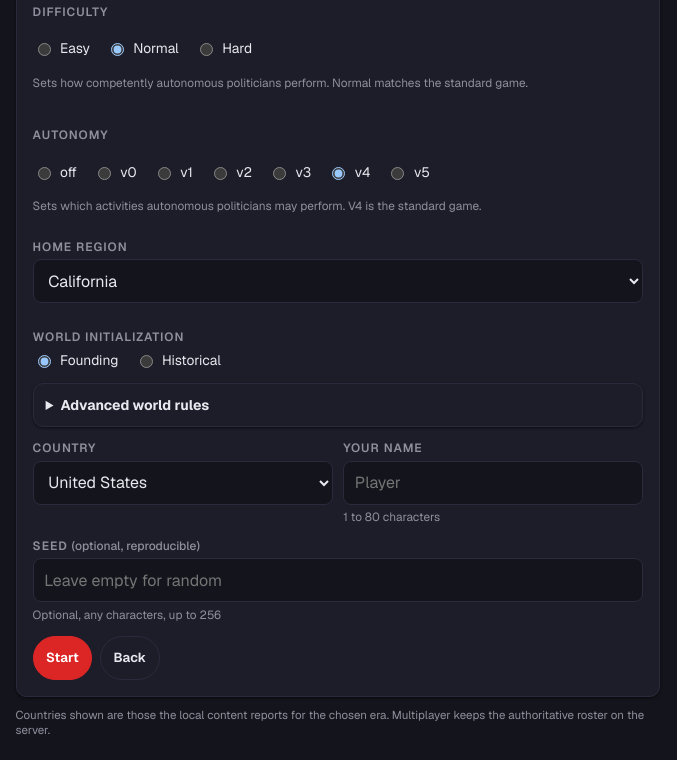
NewGameScreen › validates name required and blocks submit
The width and height of the screenshot is (677, 760).
(page scrolled)
Click the button "Start": x=62, y=658 [33,636,92,680]
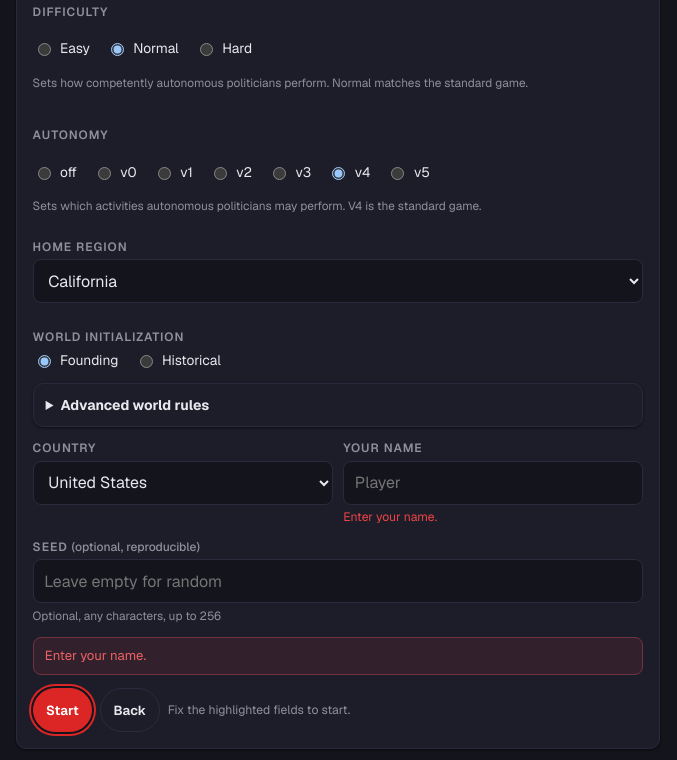
Now the text "Enter your name." below "Country" is shown, box [343,509,437,525]
